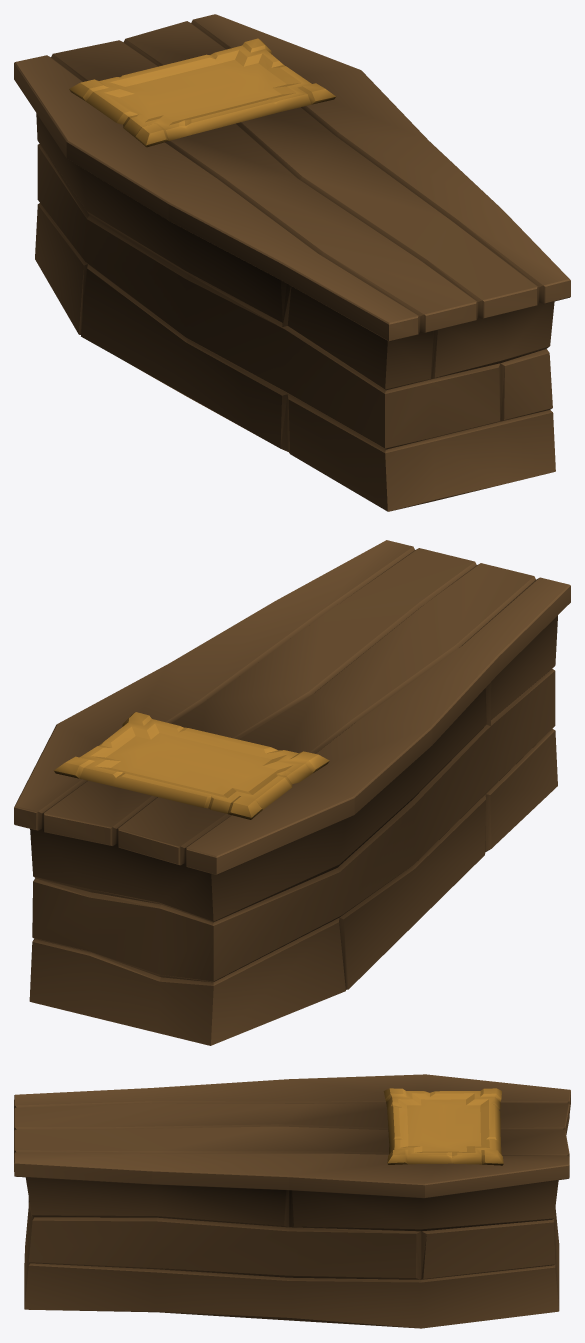
Rendered from obj_coffin_E.FBX.
3 renders of one model, top to bottom at view 1: azimuth 30°, elevation 25°; view 2: azimuth 150°, elevation 25°; view 3: azimuth 270°, elevation 25°, orthographic. The views are drawn at different scales.
Visible parts, largest first — view 1: obj_coffin_E; view 2: obj_coffin_E; view 3: obj_coffin_E.
Part boxes in pixels (x1=…): obj_coffin_E: x1=14, y1=14, x2=570, y2=511; obj_coffin_E: x1=14, y1=540, x2=570, y2=1045; obj_coffin_E: x1=14, y1=1074, x2=570, y2=1328.
Bounding box in the file's own units: 1.55 × 1.04 × 3.31.
